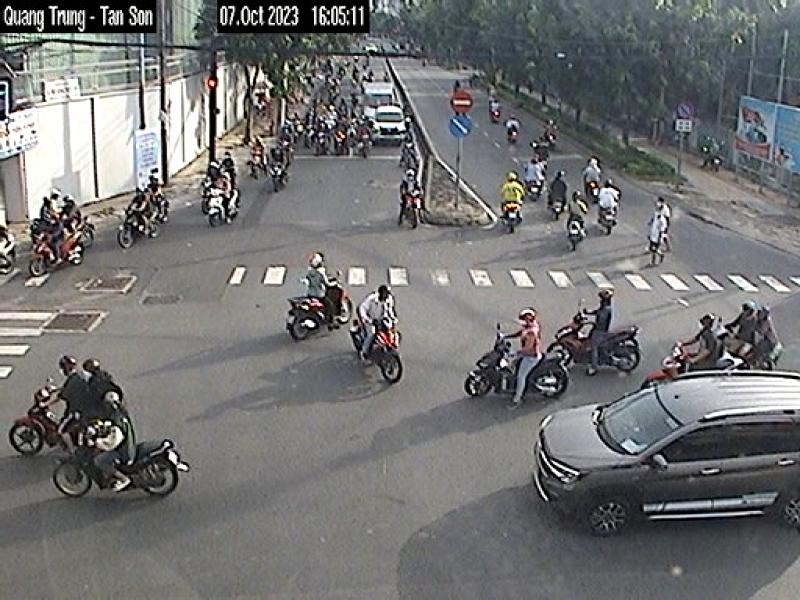car: (525, 351, 800, 600)
motorcycle: (47, 420, 204, 520), (453, 329, 581, 435), (336, 300, 422, 388), (0, 379, 78, 467), (544, 304, 651, 364), (260, 267, 346, 326)
